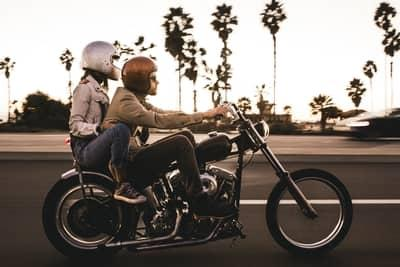helmet: (74, 34, 124, 89), (115, 48, 165, 98)
